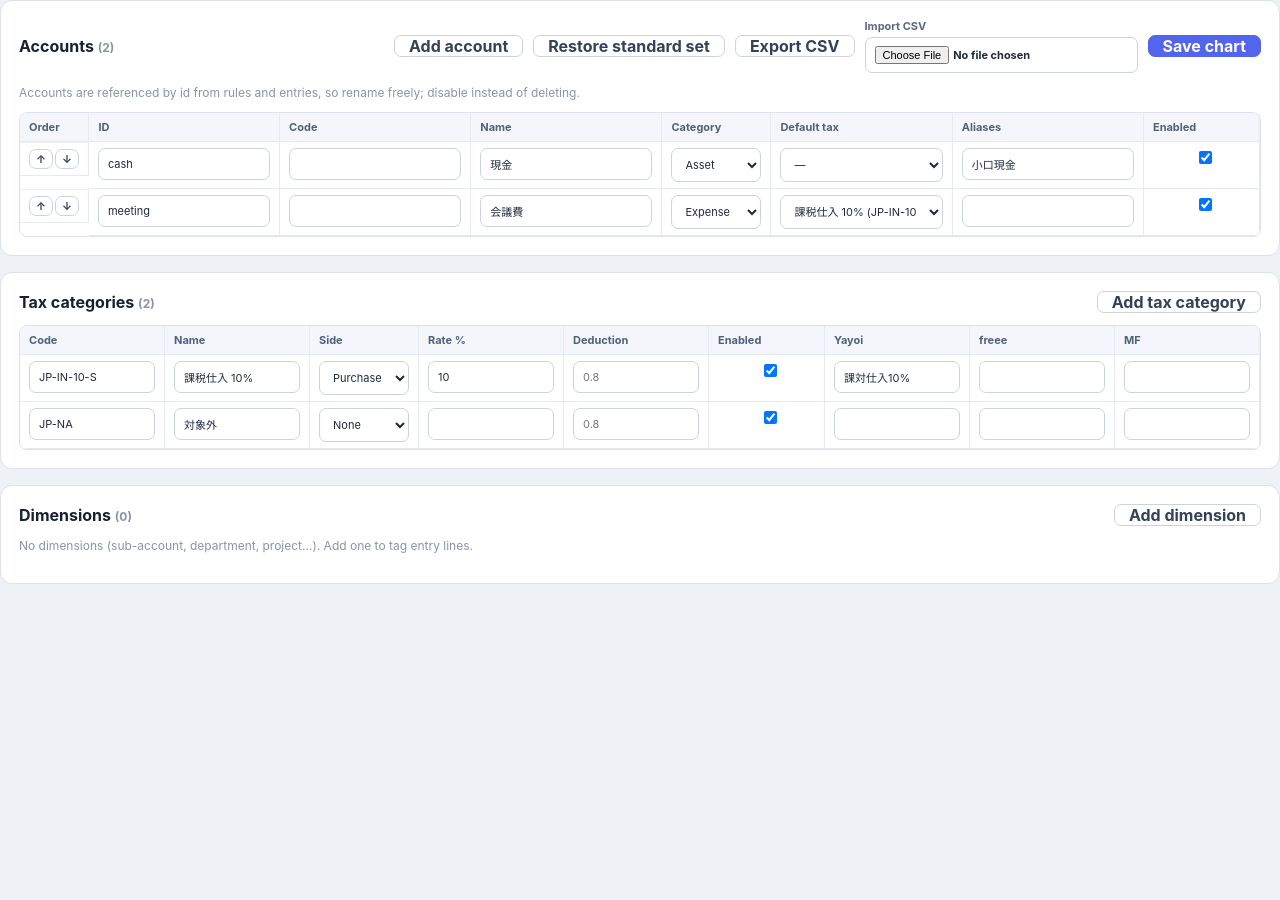
ChartTab › 異常: 科目 ID が重複したら保存せず、その欄の下と要約に問題を出す
Replace the text in the field named "Account 2 id" with "cash" at (184, 211), box [98,195,270,227]
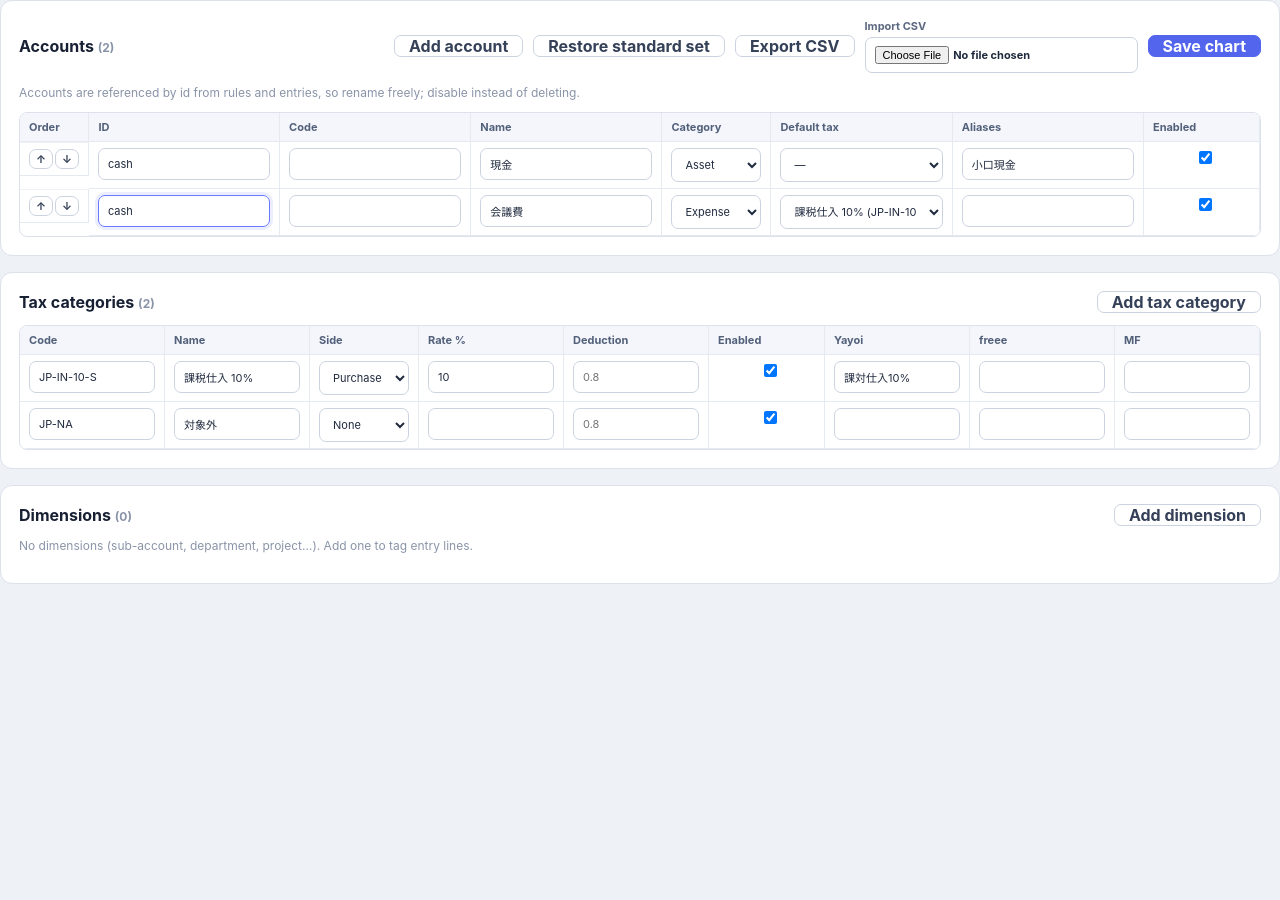
Click the button "Save chart" at (1204, 46), box [1148,35,1261,57]
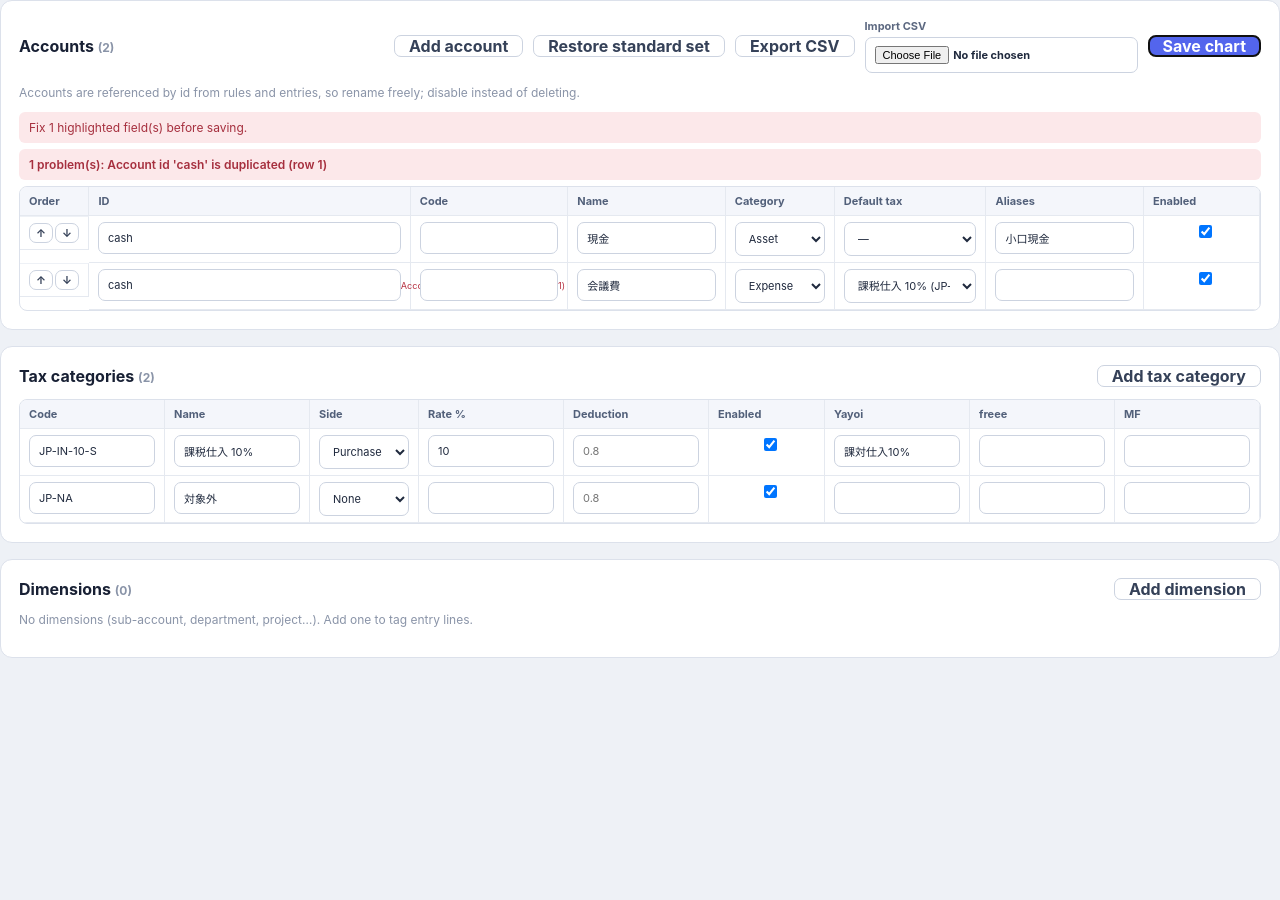
expect the text "Account id 'cash' is duplicated (row 1)" is shown: met, box [401,280,565,291]
expect the text "1 problem(s): Account id 'cash' is duplicated (row 1)" is shown: met, box [19,149,1261,180]
